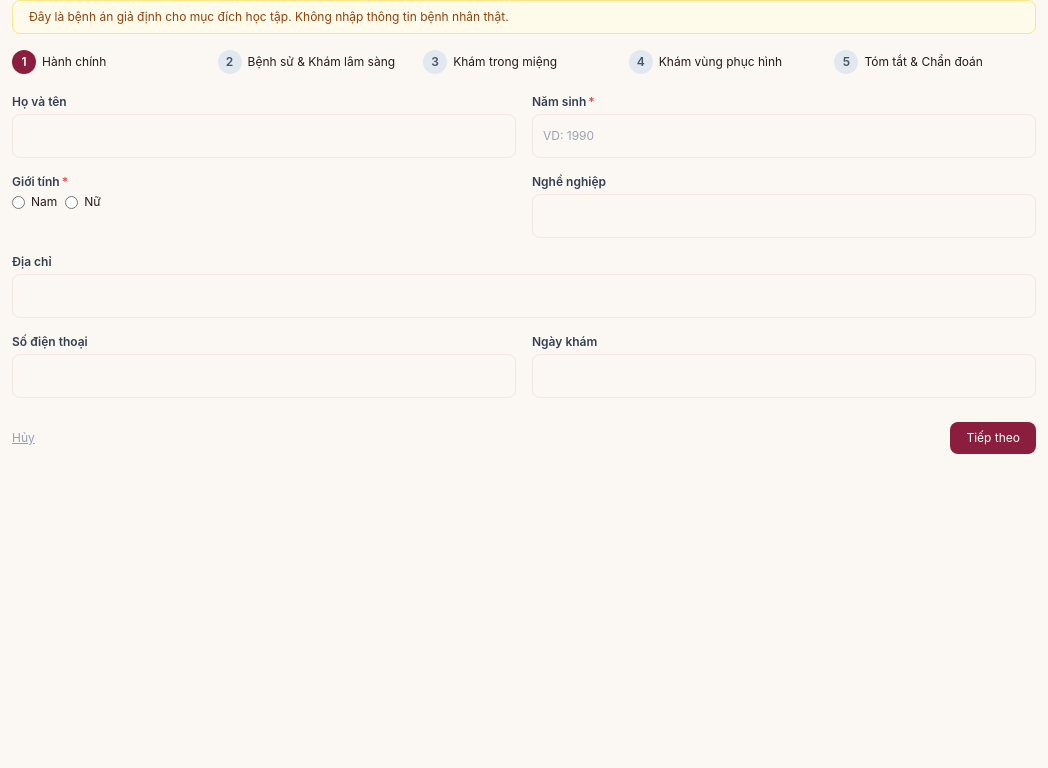
Test: ClinicalRecordWizard – navigation › advances to step 1 when required fields are filled and Next is clicked
Step 1. Type "1990" into the field labelled "Năm sinh*" → (784, 136), box [532,114,1036,158]
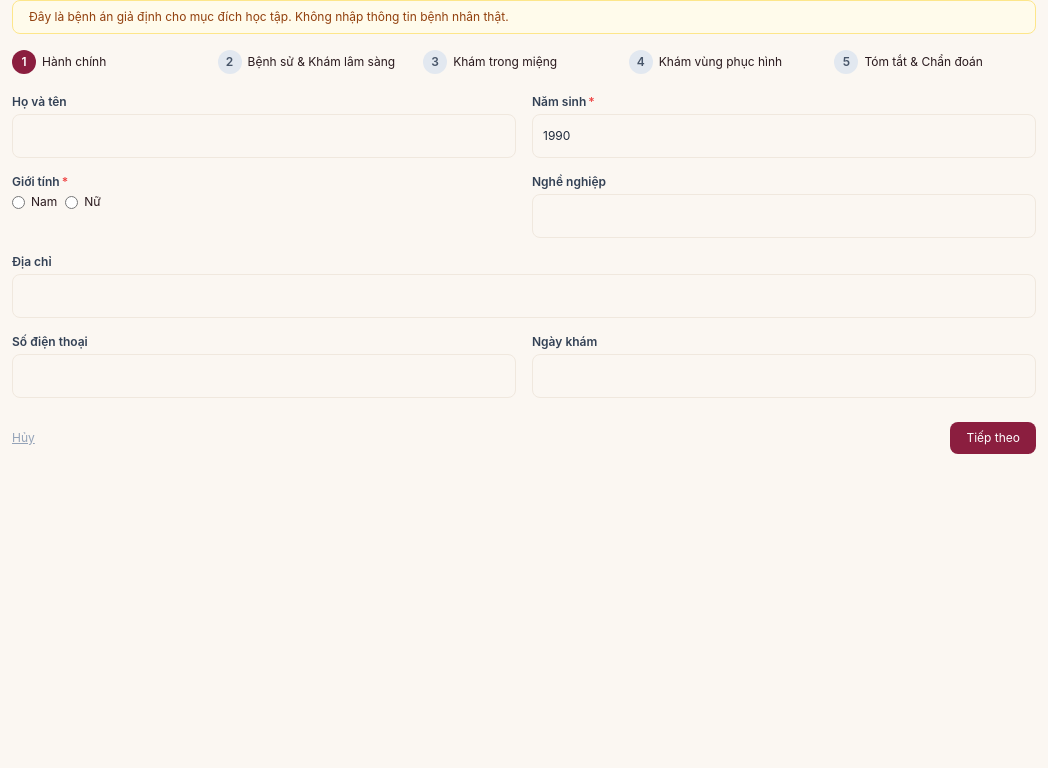
Step 2. Click the radio button labelled "Nam" → (18, 202), box [12,196,25,208]
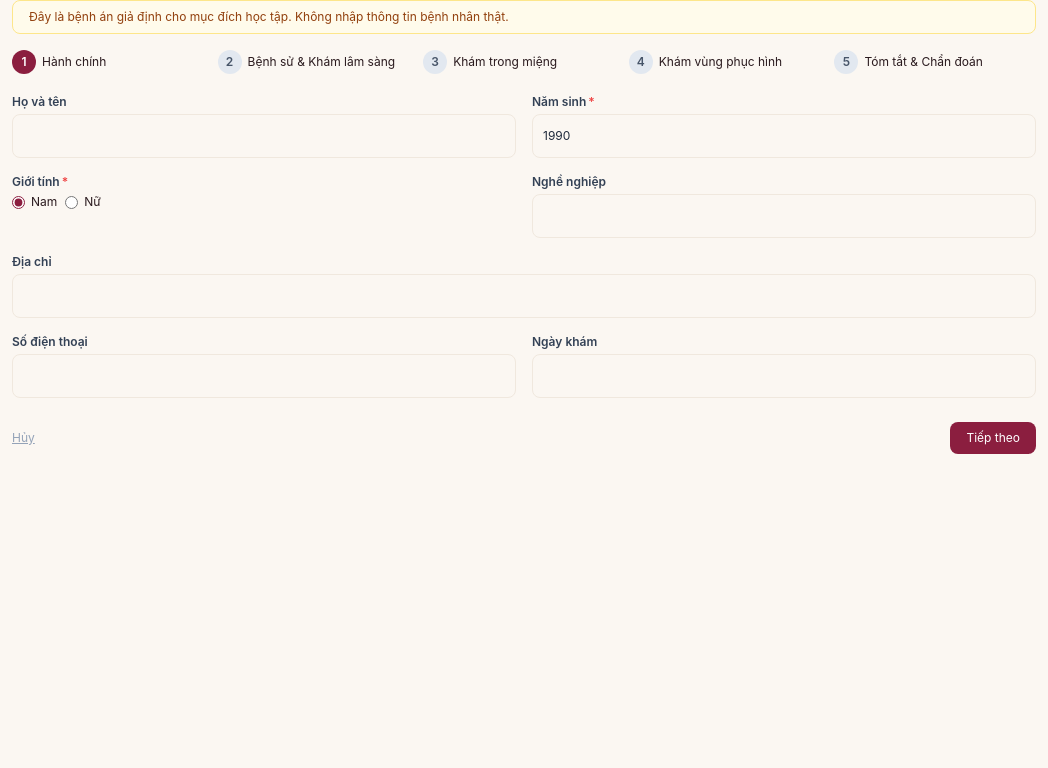
Step 3. Click the button "Tiếp theo" → (993, 438), box [950,422,1036,454]
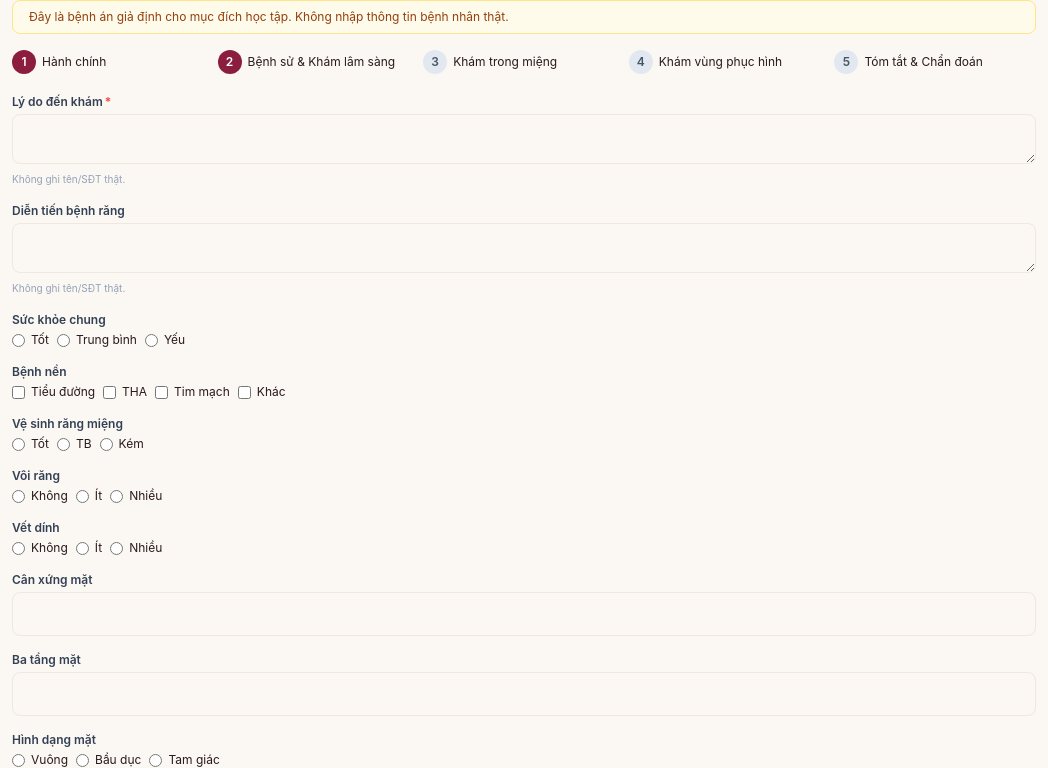
Check: the text box labelled "Lý do đến khám*" is shown, box [12,114,1036,164]
